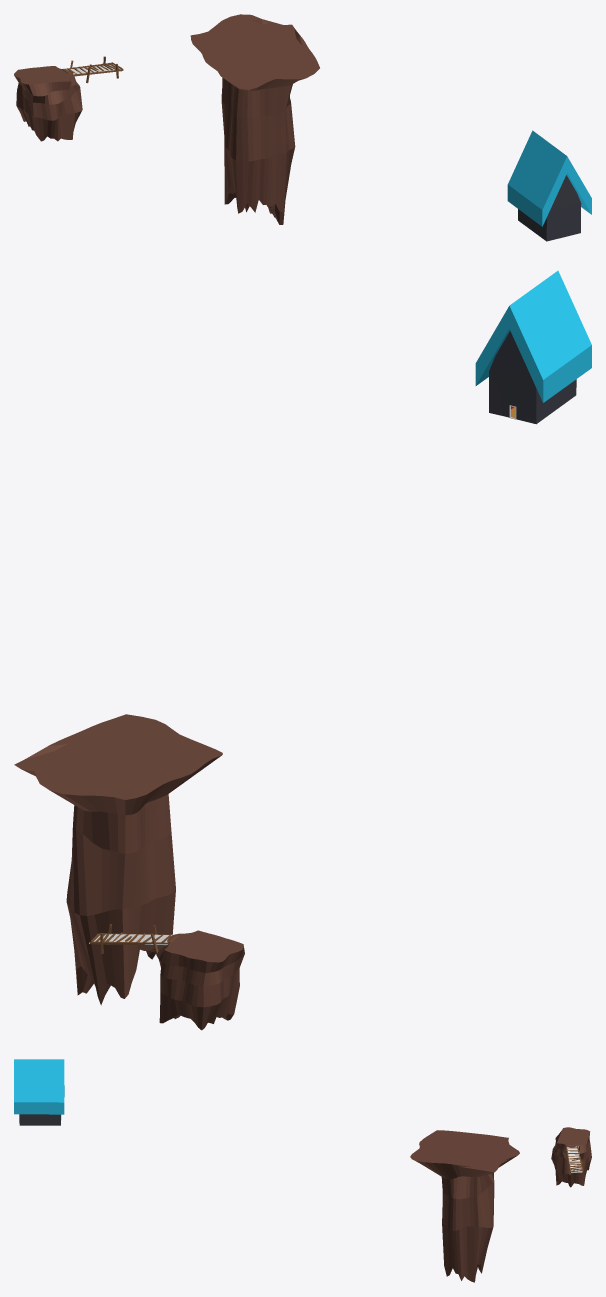
File: Map3Fixes.fbx
3 renders of one model, top to bottom at view 1: azimuth 30°, elevation 25°; view 2: azimuth 150°, elevation 25°; view 3: azimuth 270°, elevation 25°, orthographic. The views are drawn at different scales.
Visible parts, largest first — view 1: Plane.020, Roof.007, Plane.018, Base.007, Bridge.009; view 2: Plane.020, Roof.007, Plane.018, Base.007; view 3: Plane.020, Roof.007, Plane.018, Base.007, Bridge.009.
Part boxes in pixels (<box>): Plane.020: <box>190,14,319,224</box>; Roof.007: <box>507,130,591,226</box>; Plane.018: <box>14,66,82,141</box>; Base.007: <box>518,175,581,241</box>; Bridge.009: <box>62,56,123,83</box>; Plane.020: <box>14,714,222,1005</box>; Roof.007: <box>475,270,591,402</box>; Plane.018: <box>156,930,244,1030</box>; Base.007: <box>489,331,576,424</box>; Plane.020: <box>410,1130,519,1282</box>; Roof.007: <box>14,1059,64,1114</box>; Plane.018: <box>551,1127,591,1187</box>; Base.007: <box>19,1114,61,1125</box>; Bridge.009: <box>565,1144,583,1175</box>.
Bounding box in the file's own units: 78.24 × 102 × 251.
